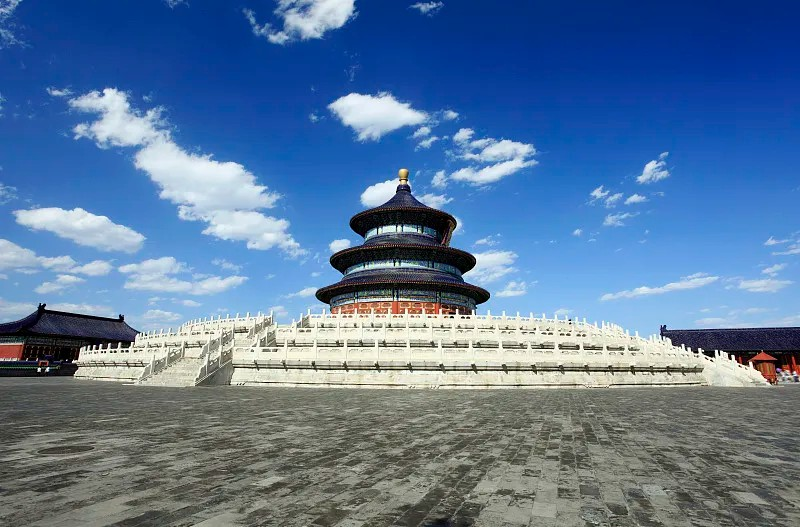Heaven: (314, 167, 491, 317)
